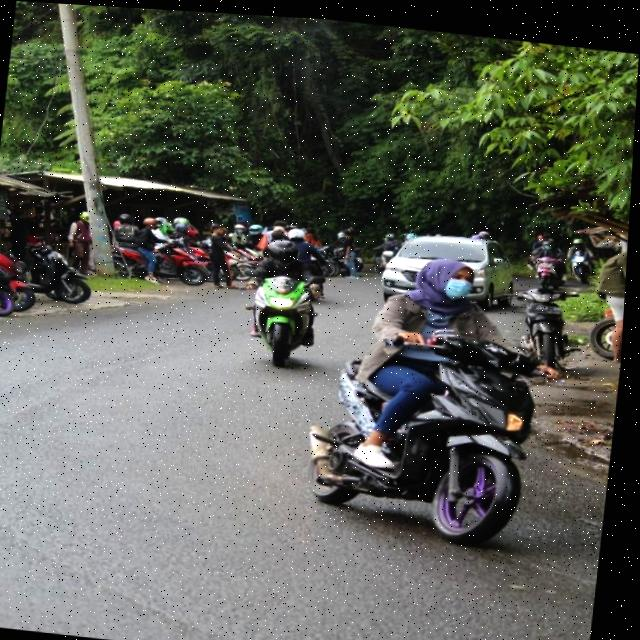motorcycle: (325, 318, 549, 553), (243, 267, 329, 373), (0, 240, 63, 323), (148, 236, 217, 290)
